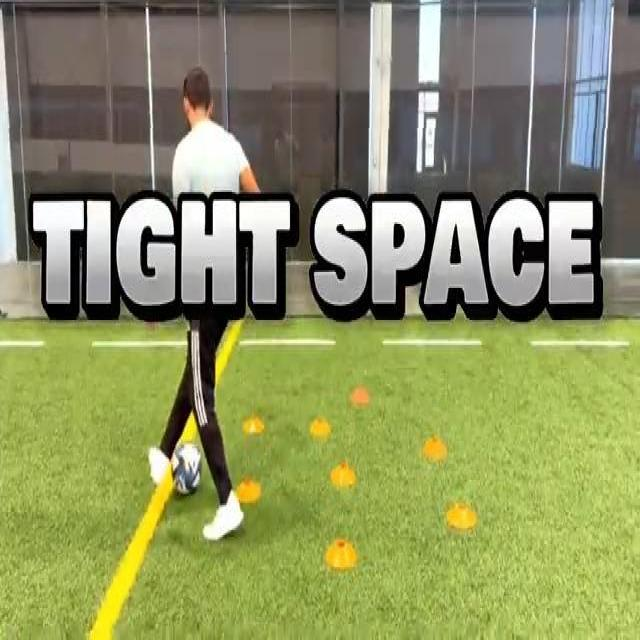Soccer Ball: (171, 442, 202, 495)
